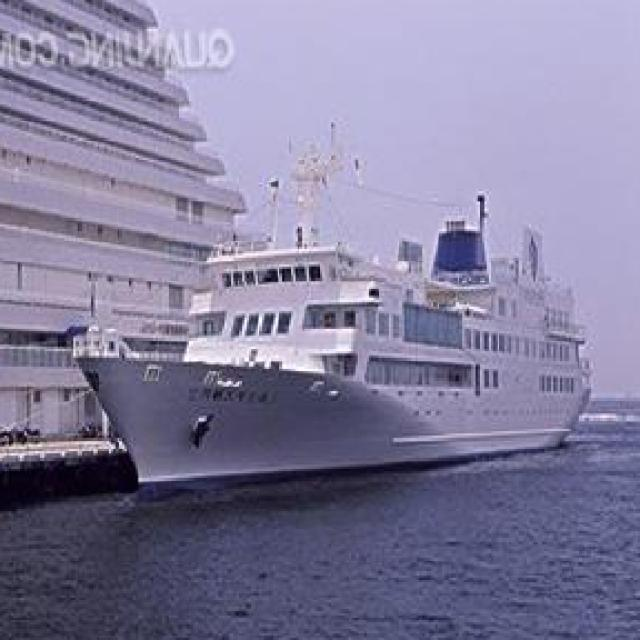passenger ship: (74, 220, 606, 488)
